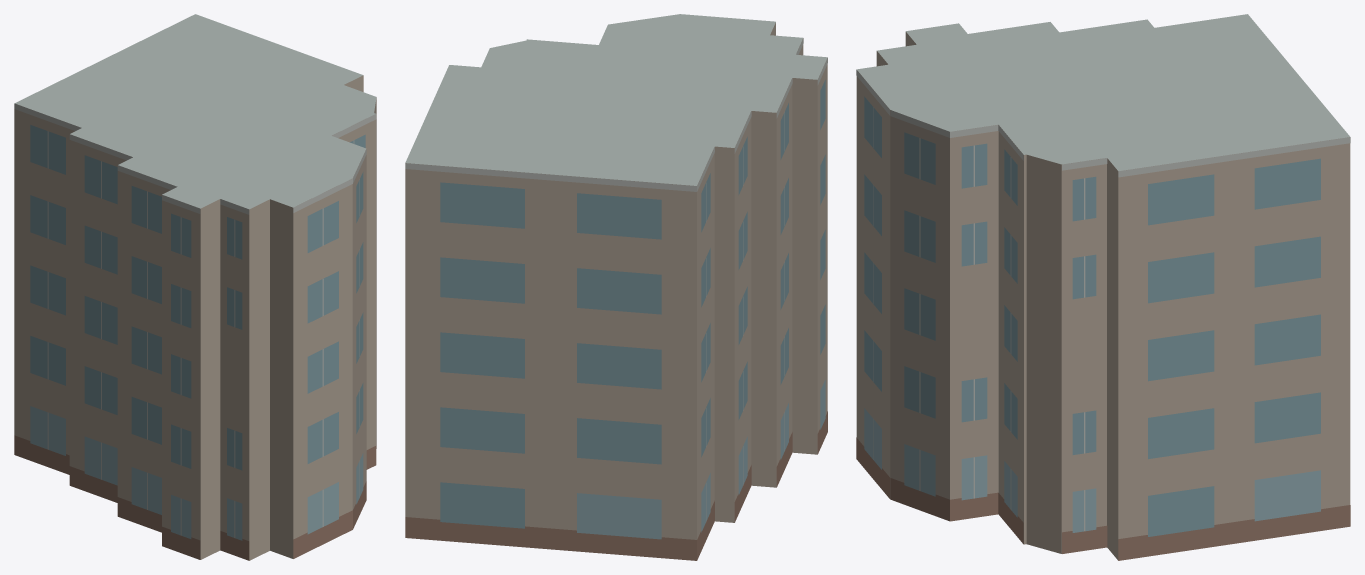
Rendered from survey-upis-32607539.glb.
The picture shows the model from 3 angles, left to right: view 1: azimuth 30°, elevation 25°; view 2: azimuth 150°, elevation 25°; view 3: azimuth 270°, elevation 25°; orthographic projection. The views are drawn at different scales.
Parts seen in each view (by area): view 1: survey-upis-32607539.tmp; view 2: survey-upis-32607539.tmp; view 3: survey-upis-32607539.tmp.
Part boxes in pixels (x1,y1,x2,y2): survey-upis-32607539.tmp: (14,14,376,560); survey-upis-32607539.tmp: (405,14,827,560); survey-upis-32607539.tmp: (856,14,1350,560).
Bounding box in the file's own units: 13.21 × 15.25 × 17.53.
